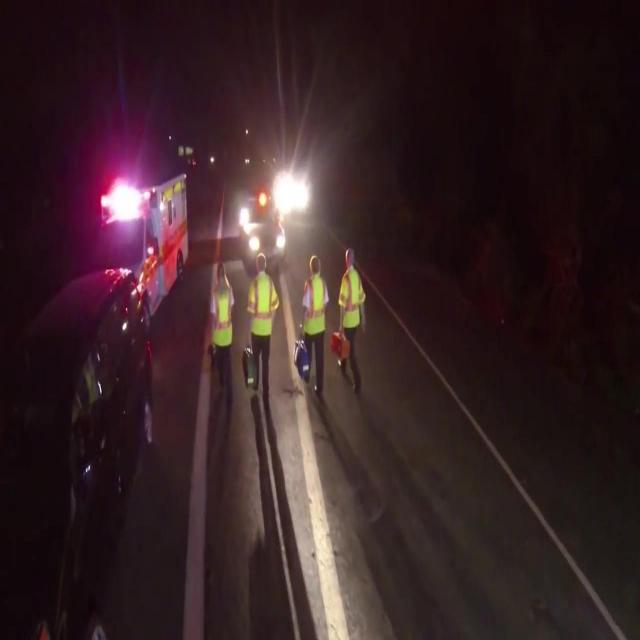Reflective-Jacket: (246, 272, 282, 347), (208, 279, 238, 352), (338, 269, 368, 335), (301, 274, 329, 340)
